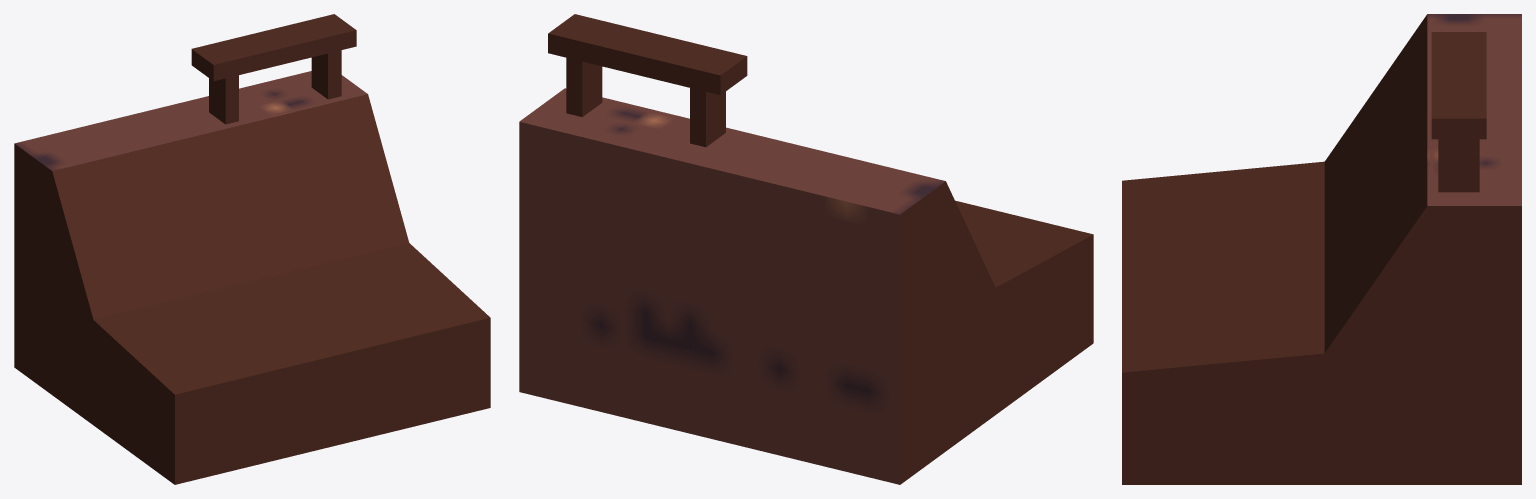
The model's file is Registradora.fbx.
3 views of the same model, side by side, from view 1: azimuth 30°, elevation 25°; view 2: azimuth 150°, elevation 25°; view 3: azimuth 270°, elevation 25° (orthographic). The views are drawn at different scales.
Parts seen in each view (by area): view 1: Registradora; view 2: Registradora; view 3: Registradora.
Part boxes in pixels (x1=…): Registradora: x1=14, y1=14, x2=490, y2=484; Registradora: x1=519, y1=14, x2=1093, y2=484; Registradora: x1=1122, y1=14, x2=1521, y2=484.
Bounding box in the file's own units: 79.58 × 69.65 × 70.05.
